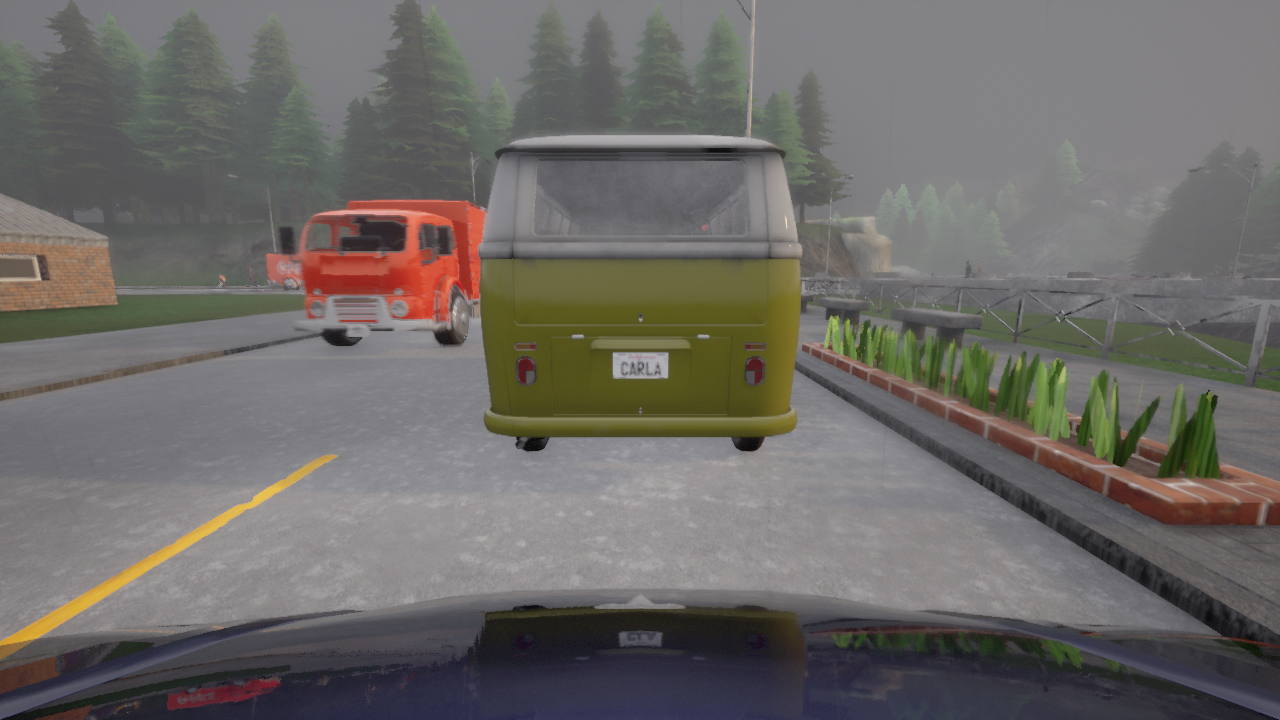cyclist: (0, 588, 1279, 719), (479, 135, 801, 450), (278, 199, 487, 346), (268, 253, 302, 290), (1240, 265, 1279, 279), (1096, 271, 1162, 279)
pedestrian: (246, 265, 258, 285), (962, 260, 972, 278), (975, 260, 984, 272), (219, 274, 225, 286)
